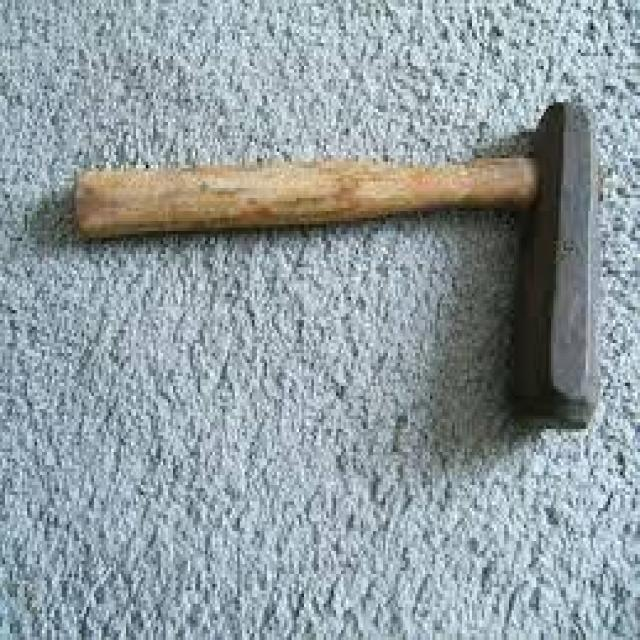hammer: (59, 89, 606, 429)
